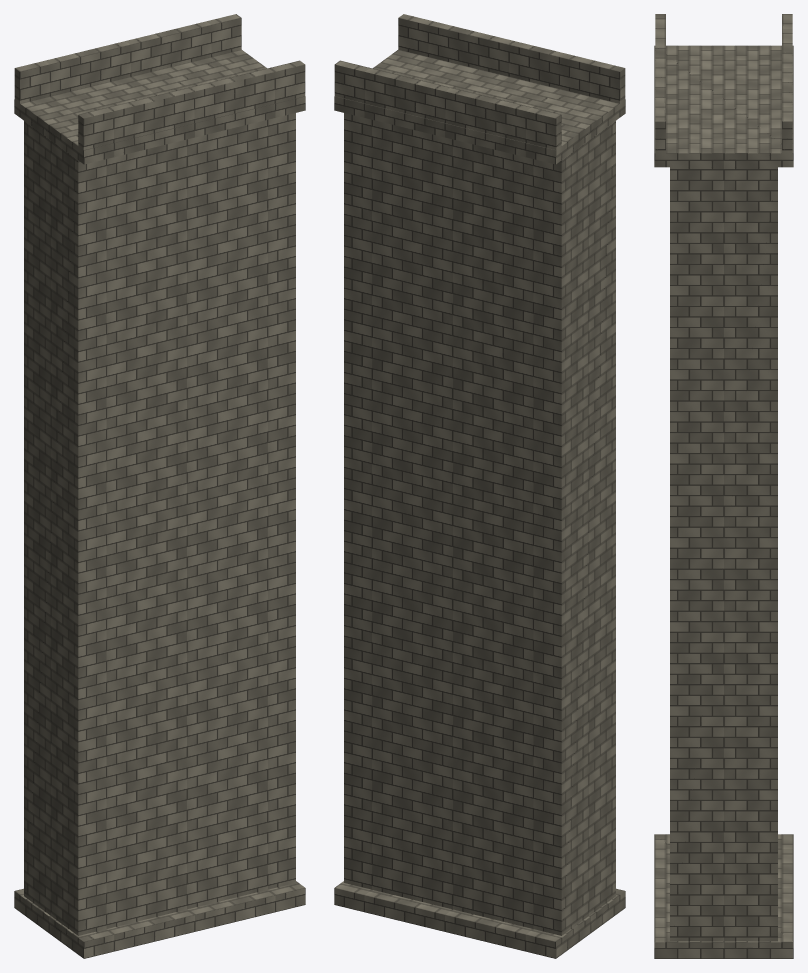
The model's file is SG_Wall_Bay_32x120_LOD2.fbx.
3 renders of one model, left to right at view 1: azimuth 30°, elevation 25°; view 2: azimuth 150°, elevation 25°; view 3: azimuth 270°, elevation 25°, orthographic.
Visible parts, largest first — view 1: SG_Wall_Bay_32x120_Detail2; view 2: SG_Wall_Bay_32x120_Detail2; view 3: SG_Wall_Bay_32x120_Detail2.
Boxes of the visible parts, left/top/right/bottom form: SG_Wall_Bay_32x120_Detail2: left=14, top=14, right=305, bottom=958; SG_Wall_Bay_32x120_Detail2: left=334, top=14, right=625, bottom=958; SG_Wall_Bay_32x120_Detail2: left=654, top=14, right=793, bottom=958.
Bounding box in the file's own units: 33 × 120 × 18.
